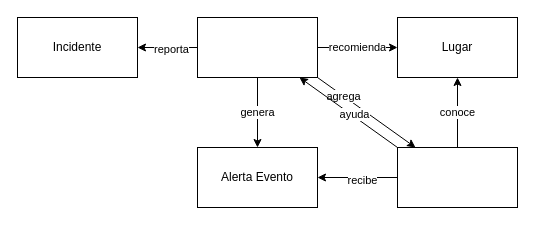
The diagram is 535 pixels wide and 225 high, and some of its shapes have lost their labels. The centre of each missing label's shape, as x and y in pixels:
Amigo Local: (x=457, y=177)
Estudiante Extranjero: (x=257, y=47)
